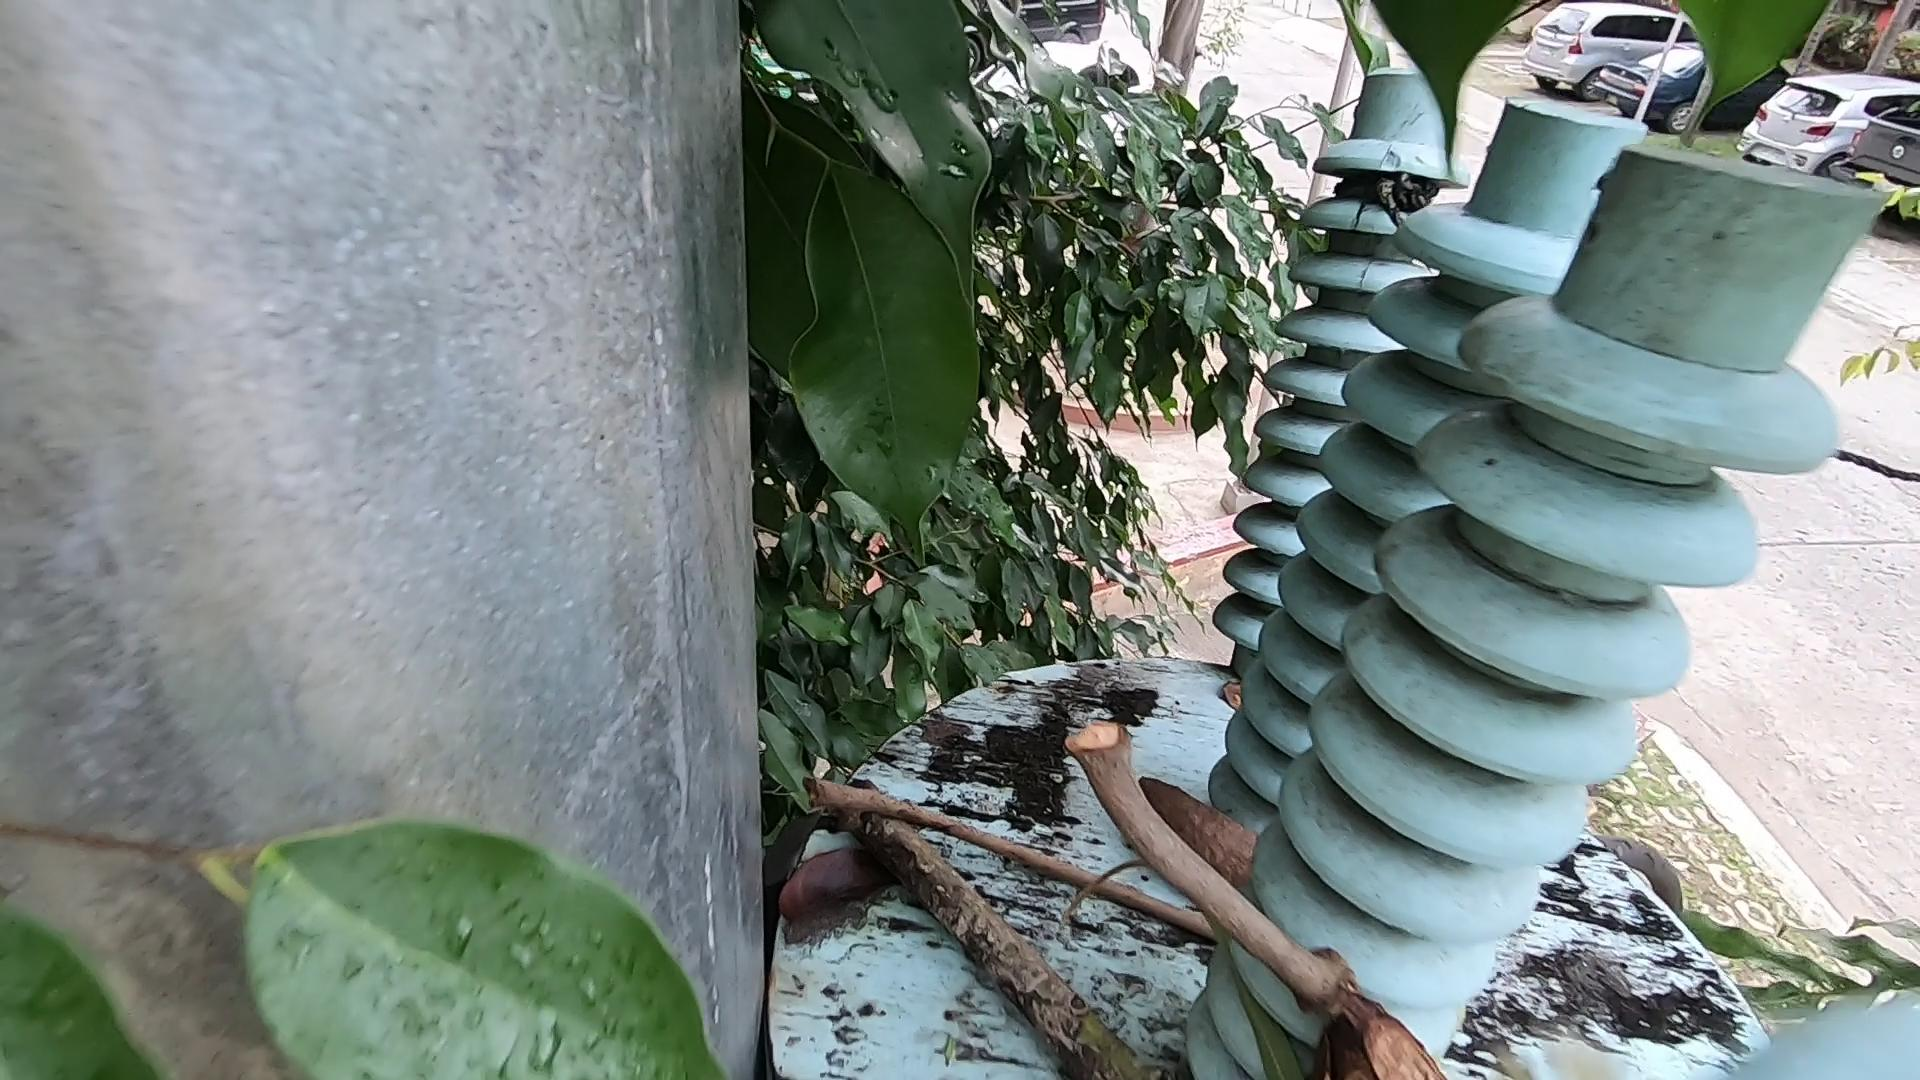branch with leaves: (847, 793, 1135, 1080)
leaf: (754, 804, 905, 932), (1201, 669, 1255, 721)
mahogany fruit: (1233, 965, 1499, 1080), (1151, 757, 1329, 913)
tree branch: (1079, 684, 1352, 1013), (796, 769, 1208, 934)
